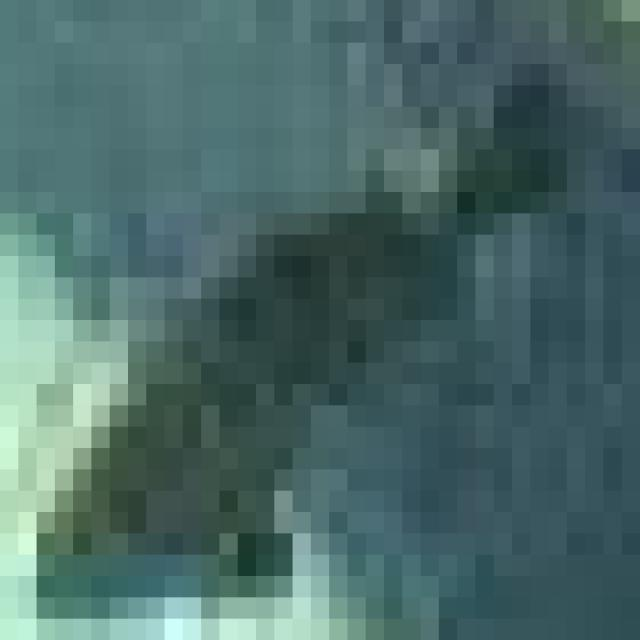fish: (0, 21, 622, 640)
